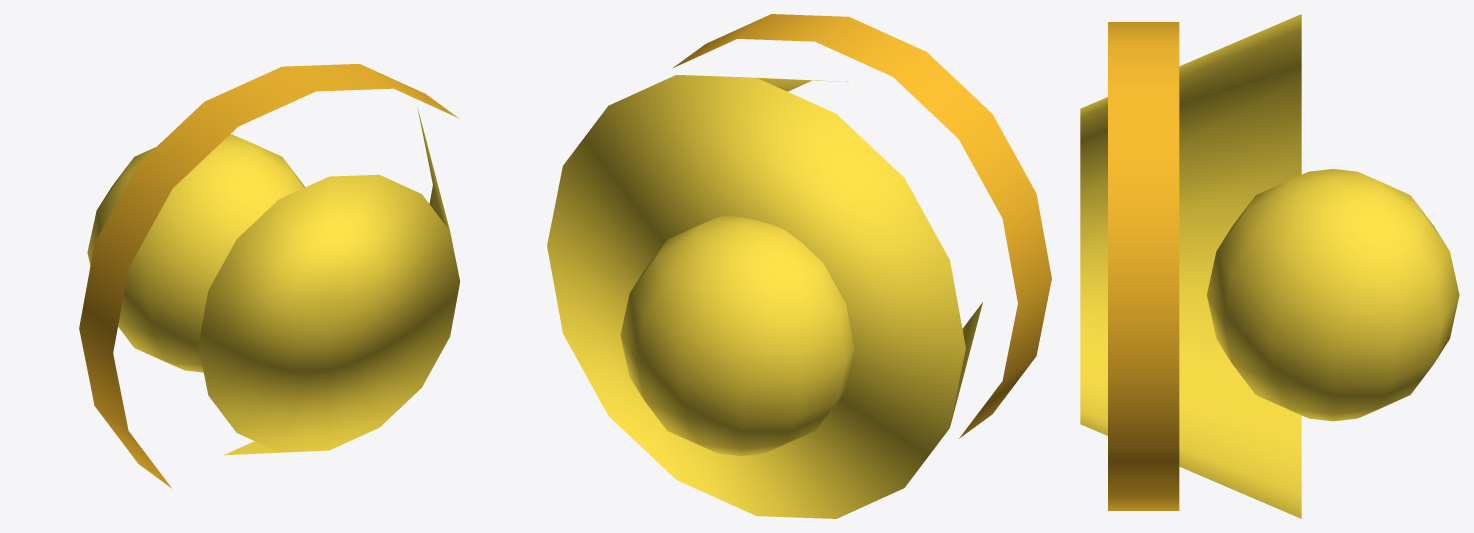
Rendered from snake_yellow_tail.glb.
3 views of the same model, side by side, from view 1: azimuth 30°, elevation 25°; view 2: azimuth 150°, elevation 25°; view 3: azimuth 270°, elevation 25° (orthographic). The views are drawn at different scales.
Size of the model in its own units: 0.64 by 0.64 by 0.48.
